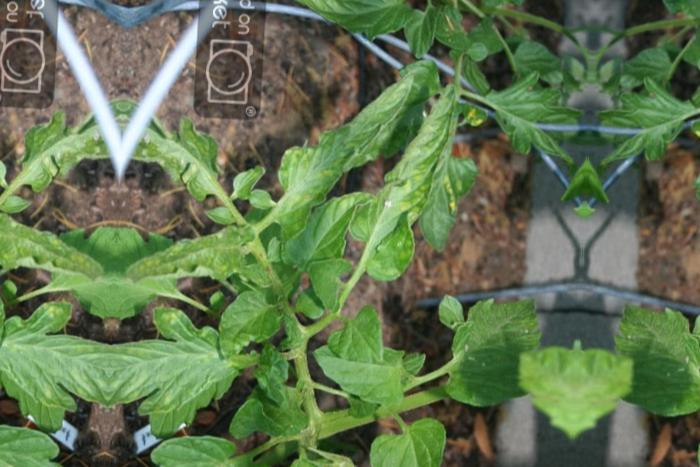Tomato leaf mosaic virus: (106, 294, 282, 435), (275, 71, 416, 219), (429, 289, 549, 415), (100, 412, 272, 467), (282, 0, 426, 50), (218, 271, 294, 360), (364, 413, 447, 467), (329, 307, 391, 374)
